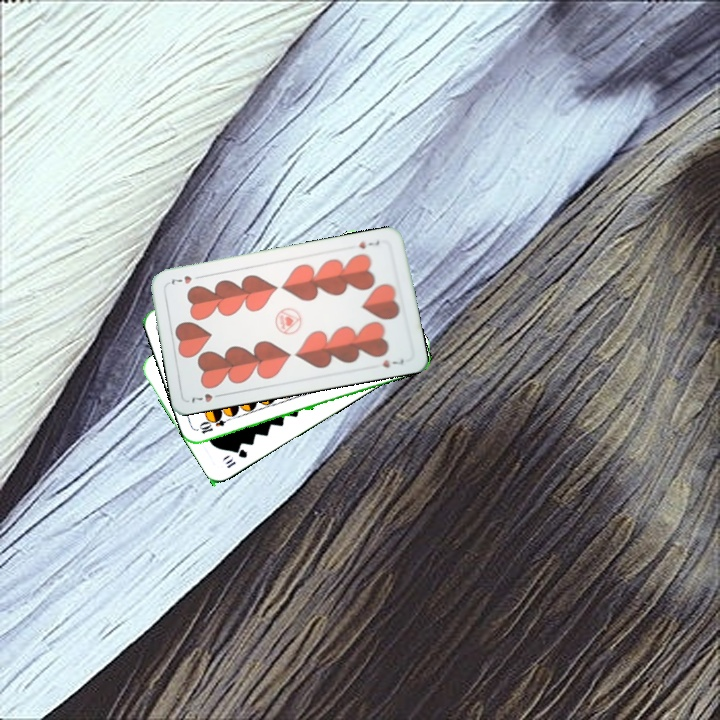E10: (195, 412, 235, 436)
G10: (218, 445, 250, 471)
H7: (186, 389, 226, 405), (355, 236, 382, 251)
